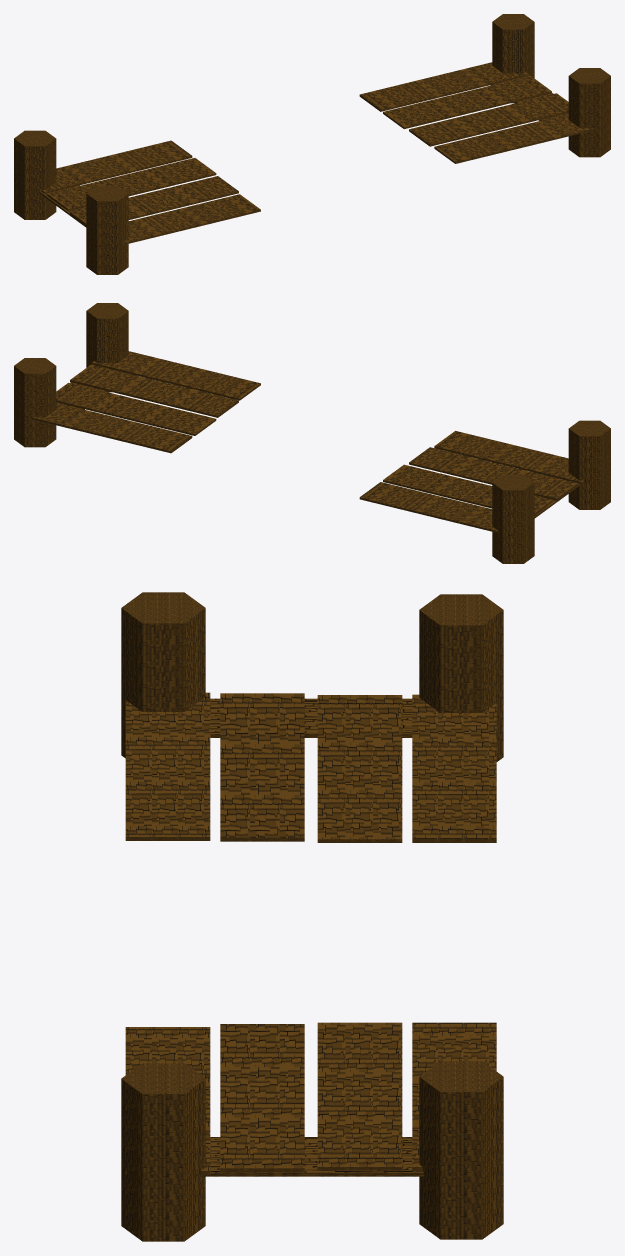
The model's file is brokenbridge.glb.
The picture shows the model from 3 angles, top to bottom: view 1: azimuth 30°, elevation 25°; view 2: azimuth 150°, elevation 25°; view 3: azimuth 270°, elevation 25°; orthographic projection. The views are drawn at different scales.
Parts seen in each view (by area): view 1: Merged batch 1; view 2: Merged batch 1; view 3: Merged batch 1.
Part boxes in pixels (x1=…): Merged batch 1: x1=14, y1=14, x2=610, y2=274; Merged batch 1: x1=14, y1=303, x2=610, y2=563; Merged batch 1: x1=121, y1=592, x2=503, y2=1241.
Size of the model in its own units: 28.1 by 3.85 by 9.05.
1 material, 1 textured.
